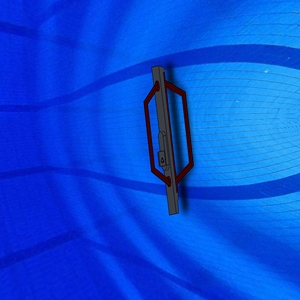submarine: (138, 59, 202, 220)
